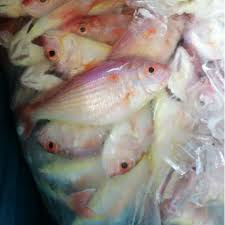Ikan Kerisi: (13, 51, 175, 122), (34, 26, 113, 76)
